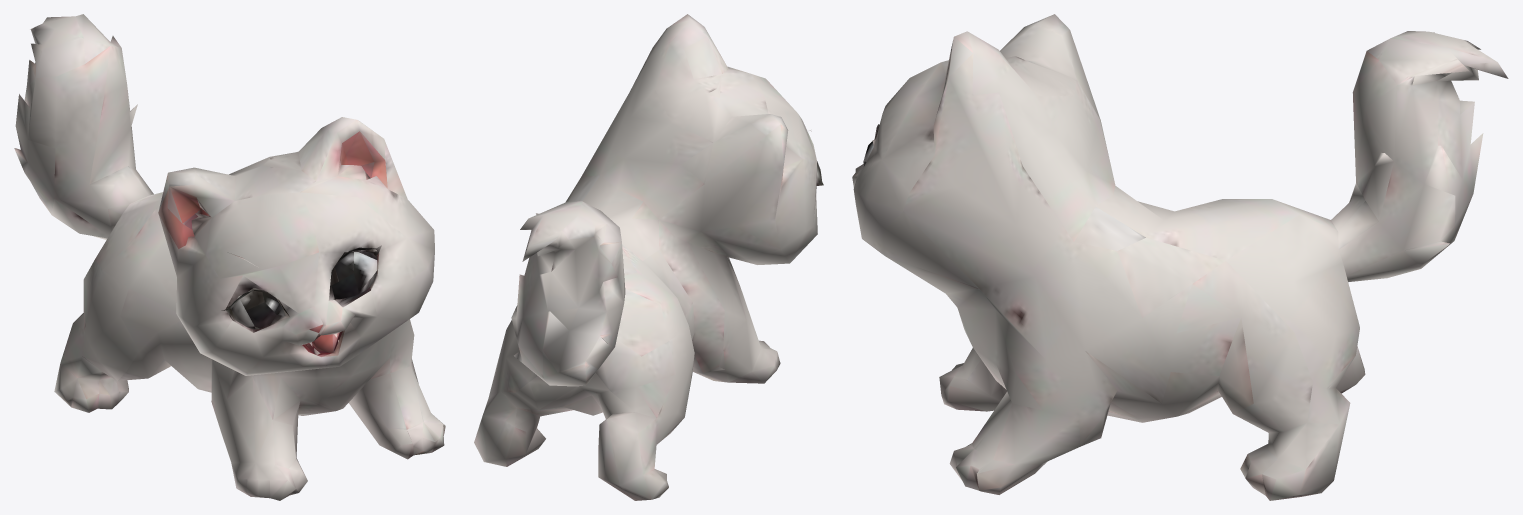
Rendered from gato-branco-leve.glb.
3 renders of one model, left to right at view 1: azimuth 30°, elevation 25°; view 2: azimuth 150°, elevation 25°; view 3: azimuth 270°, elevation 25°, orthographic. The views are drawn at different scales.
Size of the model in its own units: 0.1278 by 0.1828 by 0.2528.
Materials: 1 (1 with a texture image).
